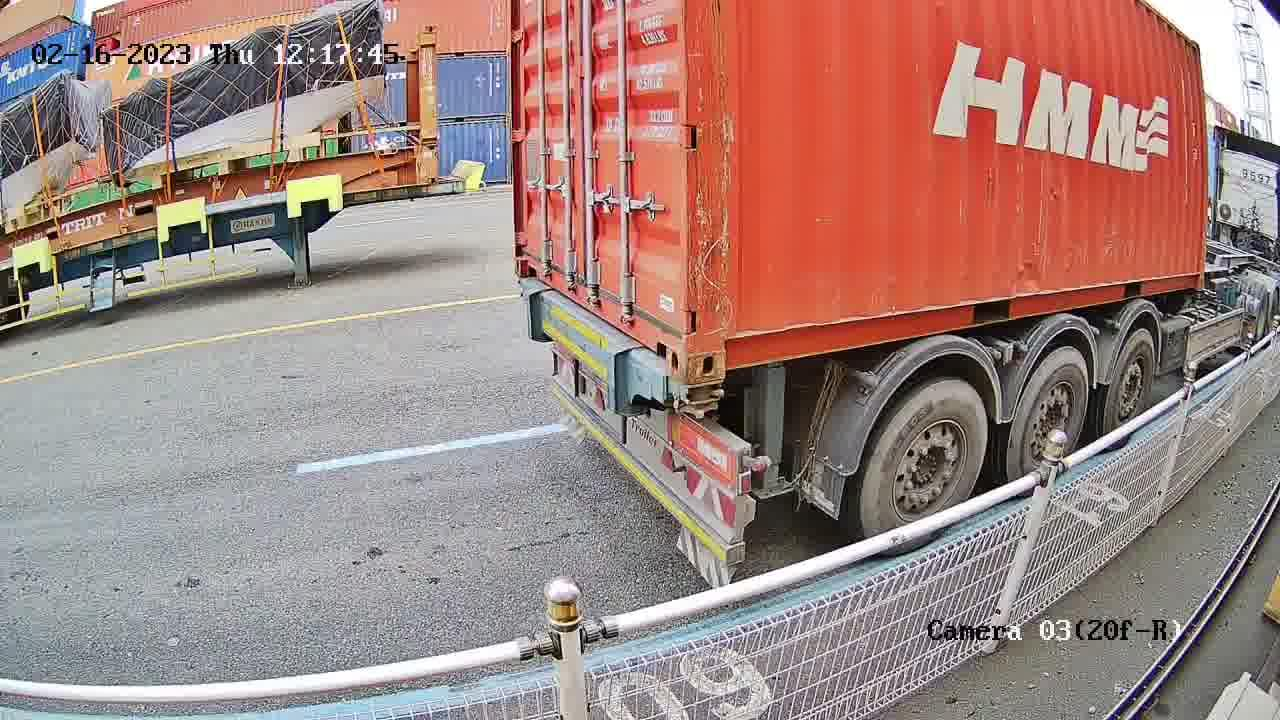Cone: (668, 381, 724, 419)
Hole_L: (683, 296, 753, 383), (513, 236, 545, 283)
Hole_R: (518, 278, 668, 409), (646, 299, 683, 377)
Tire: (863, 385, 985, 534), (1009, 350, 1090, 473), (1109, 334, 1153, 424)
